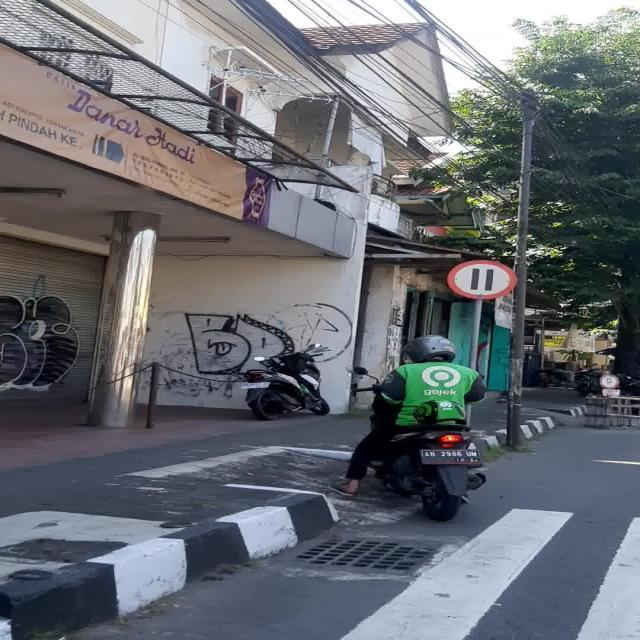Larangan Muatan - 10 ton: (446, 260, 516, 299)
